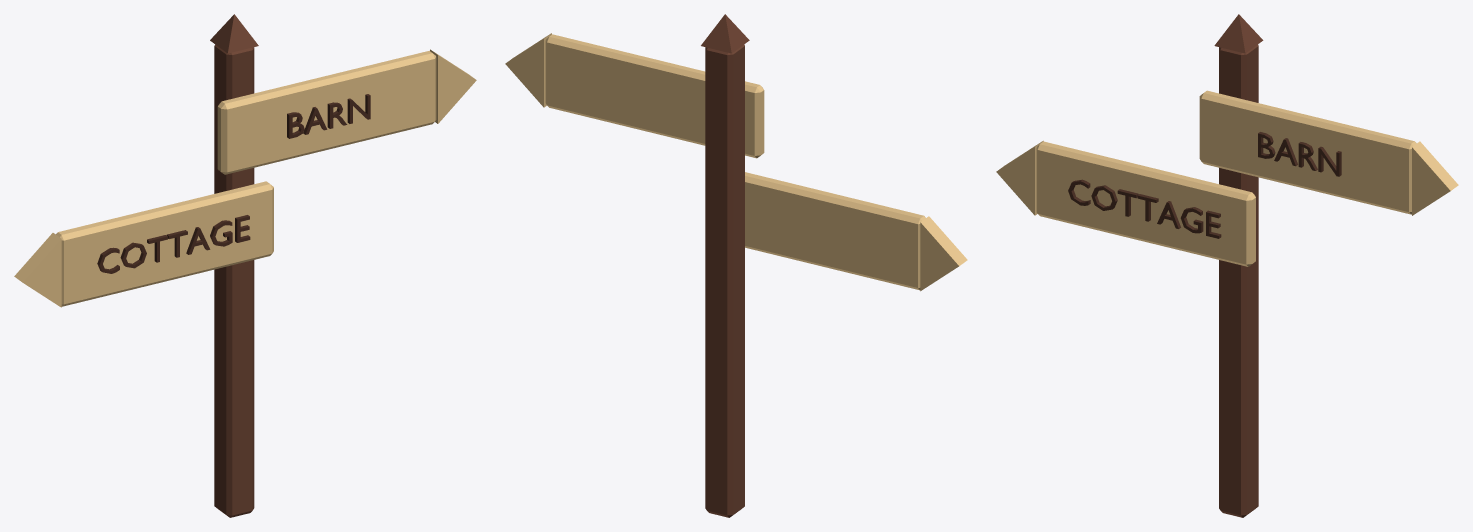
Rendered from Sign_Post_Barn.fbx.
The picture shows the model from 3 angles, left to right: view 1: azimuth 30°, elevation 25°; view 2: azimuth 150°, elevation 25°; view 3: azimuth 330°, elevation 25°; orthographic projection.
Visible parts, largest first — view 1: Sign_Post_Barn; view 2: Sign_Post_Barn; view 3: Sign_Post_Barn.
Boxes of the visible parts, x1,y1,x2,y2 form: Sign_Post_Barn: (14,14,476,517); Sign_Post_Barn: (505,14,967,517); Sign_Post_Barn: (996,14,1458,517).
Bounding box in the file's own units: 2.34 × 2.45 × 0.2404.
